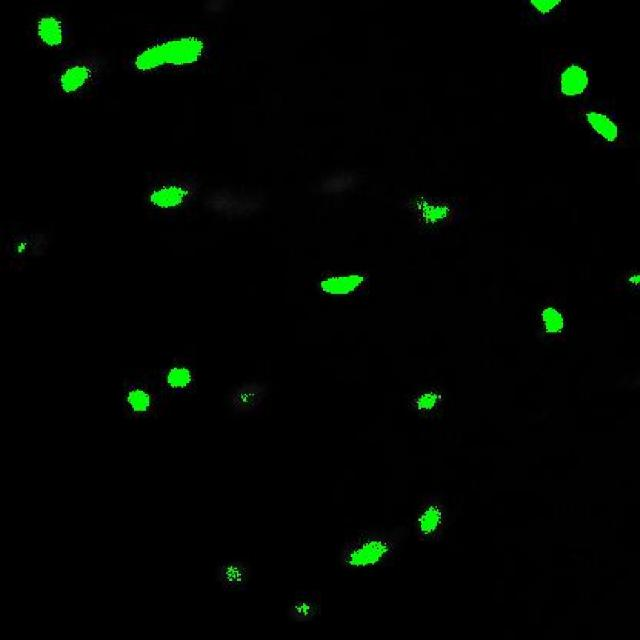Cell: (138, 40, 206, 69), (38, 15, 64, 50), (320, 277, 364, 296), (587, 114, 618, 139), (353, 544, 385, 568), (151, 187, 187, 208), (63, 65, 89, 94), (560, 68, 586, 94), (126, 391, 152, 413), (168, 368, 192, 391), (417, 391, 440, 413), (420, 510, 442, 532), (546, 310, 563, 333)
